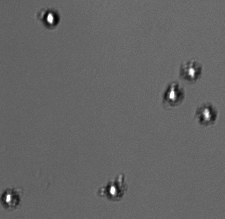Living Cell: (162, 83, 186, 107), (180, 59, 204, 83), (39, 6, 62, 29), (103, 179, 124, 201), (195, 104, 216, 125), (1, 188, 21, 208)
